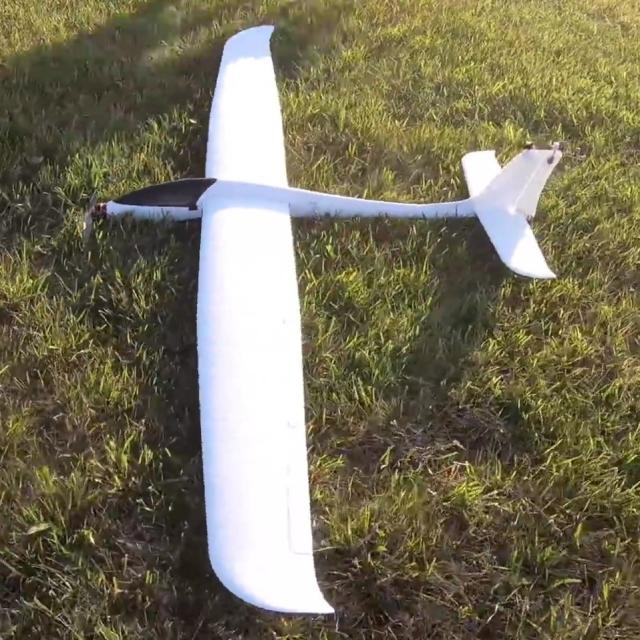iha: (14, 0, 503, 564)
